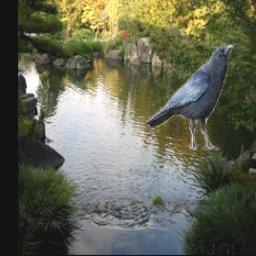Crow: (146, 45, 234, 152)
